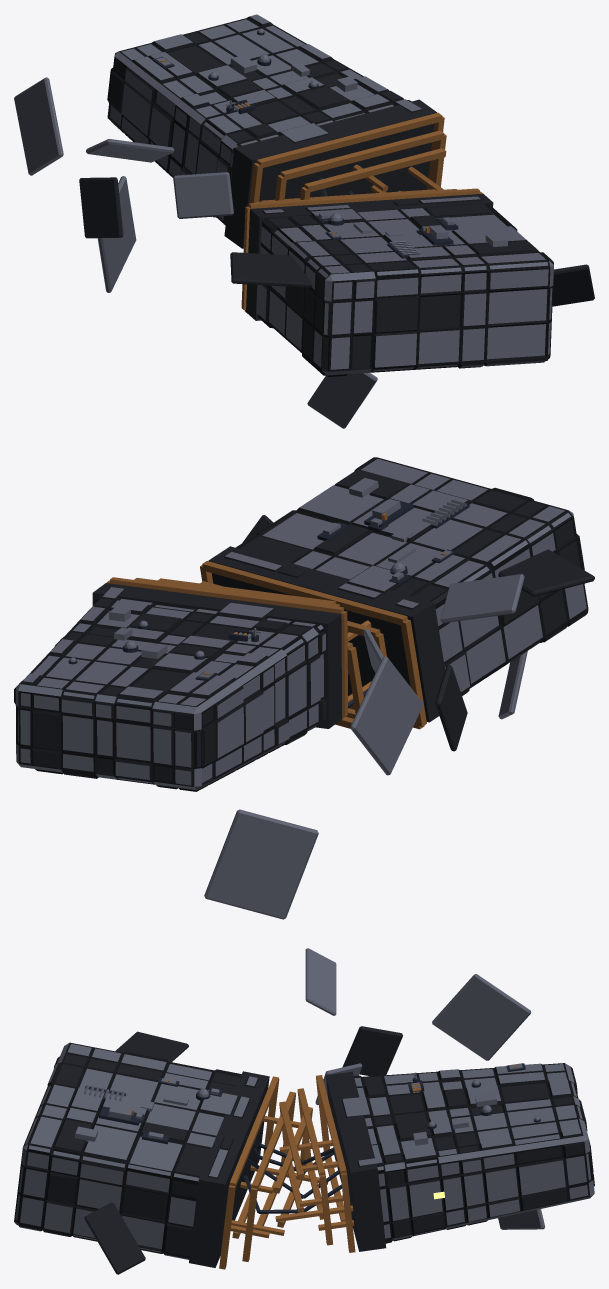
Rendered from wreck.glb.
The picture shows the model from 3 angles, top to bottom: view 1: azimuth 30°, elevation 25°; view 2: azimuth 150°, elevation 25°; view 3: azimuth 270°, elevation 25°; orthographic projection. The views are drawn at different scales.
Visible parts, largest first — view 1: wreck_mesh; view 2: wreck_mesh; view 3: wreck_mesh.
Part boxes in pixels (x1,y1,x2,y2): wreck_mesh: (14,14,594,428); wreck_mesh: (14,457,594,919); wreck_mesh: (14,948,594,1274).
Bounding box in the file's own units: 11.88 × 7.54 × 16.98.
